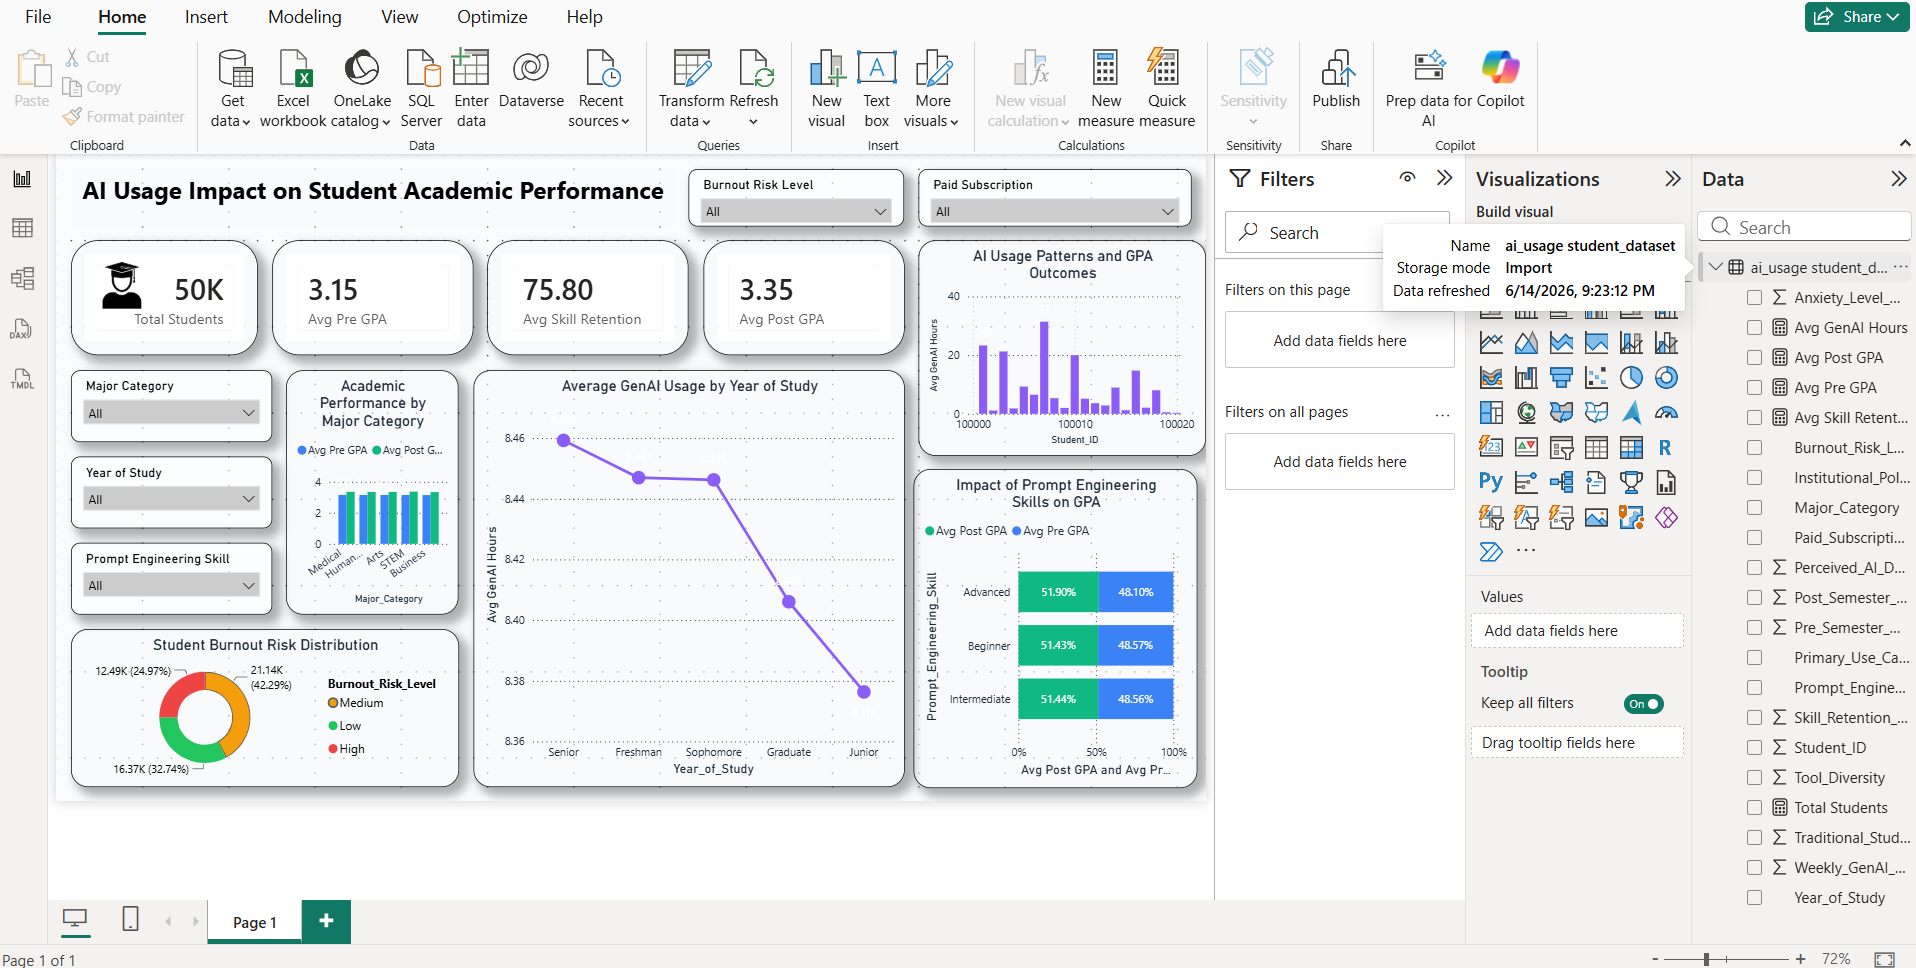

The page's visual inventory and layout, read from the dashboard file:
{"tool":"powerbi","page":{"name":"Page 1","canvas":[1280,720],"ordinal":0},"visuals":[{"type":"kpi","title":"Avg Post GPA by Year of Study","fields":{"Indicator":["ai_usage student_dataset.Avg Post GPA"],"TrendLine":["ai_usage student_dataset.Year_of_Study"]},"box":[725.9,96.1,211.3,115.3],"z":0},{"type":"kpi","title":"Avg Pre GPA by Year of Study","fields":{"Indicator":["ai_usage student_dataset.Avg Pre GPA"],"TrendLine":["ai_usage student_dataset.Year_of_Study"]},"box":[253.1,96.6,225,114.9],"z":1000},{"type":"kpi","title":"Avg Skill Retention by Year of Study","fields":{"Indicator":["ai_usage student_dataset.Avg Skill Retention"],"TrendLine":["ai_usage student_dataset.Year_of_Study"]},"box":[490.4,96.6,222.6,114.9],"z":2000},{"type":"kpi","title":"Total Students by Year of Study","fields":{"Indicator":["ai_usage student_dataset.Total Students"],"TrendLine":["ai_usage student_dataset.Year_of_Study"]},"box":[20.6,96.1,223.7,115.3],"z":3000},{"type":"clusteredColumnChart","title":"Academic Performance by Major Category","fields":{"Category":["ai_usage student_dataset.Major_Category"],"Y":["ai_usage student_dataset.Avg Pre GPA","ai_usage student_dataset.Avg Post GPA"]},"box":[252.5,222.3,204.5,306],"z":4000},{"type":"clusteredColumnChart","title":"AI Usage Patterns and GPA Outcomes","fields":{"Category":["ai_usage student_dataset.Student_ID"],"Y":["ai_usage student_dataset.Avg GenAI Hours"]},"box":[466.6,226.4,470.7,478.9],"z":5000},{"type":"donutChart","title":"Student Burnout Risk Distribution","fields":{"Y":["CountNonNull(ai_usage student_dataset.Student_ID)"],"Category":["ai_usage student_dataset.Burnout_Risk_Level"]},"box":[12.5,543.8,446.2,162.5],"z":6000},{"type":"hundredPercentStackedBarChart","title":"Impact of Prompt Engineering Skills on GPA","fields":{"Y":["ai_usage student_dataset.Avg Post GPA","ai_usage student_dataset.Avg Pre GPA"],"Category":["ai_usage student_dataset.Prompt_Engineering_Skill"]},"box":[953.8,351.2,316.2,355],"z":7000},{"type":"slicer","fields":{"Values":["ai_usage student_dataset.Major_Category"]},"box":[20,227.5,213.8,68.8],"z":8000},{"type":"slicer","fields":{"Values":["ai_usage student_dataset.Year_of_Study"]},"box":[20,306.2,215,68.8],"z":9000},{"type":"slicer","fields":{"Values":["ai_usage student_dataset.Prompt_Engineering_Skill"]},"box":[20,383.8,215,71.2],"z":10000},{"type":"lineChart","title":"Average GenAI Usage by Year of Study","fields":{"Category":["ai_usage student_dataset.Year_of_Study"],"Y":["ai_usage student_dataset.Avg GenAI Hours"]},"box":[953.8,13.8,316.2,327.5],"z":11000},{"type":"slicer","fields":{"Values":["ai_usage student_dataset.Burnout_Risk_Level"]},"box":[18.8,463.8,215,70],"z":12000},{"type":"textbox","box":[12.3,13.7,602.4,70],"z":13000},{"type":"slicer","fields":{"Values":["ai_usage student_dataset.Paid_Subscription"]},"box":[628.5,13.7,308.7,70],"z":14000}]}

Visuals, with their boxes on the page's 1280x720 design canvas (x1, y1, x2, y2). These are canvas units, not pixel positions in the 1916x968 screenshot, which may show the page scaled, cropped or inside an application window:
"Avg Post GPA by Year of Study" kpi: rect(726, 96, 937, 211)
"Avg Pre GPA by Year of Study" kpi: rect(253, 97, 478, 212)
"Avg Skill Retention by Year of Study" kpi: rect(490, 97, 713, 212)
"Total Students by Year of Study" kpi: rect(21, 96, 244, 211)
"Academic Performance by Major Category" clusteredColumnChart: rect(252, 222, 457, 528)
"AI Usage Patterns and GPA Outcomes" clusteredColumnChart: rect(467, 226, 937, 705)
"Student Burnout Risk Distribution" donutChart: rect(12, 544, 459, 706)
"Impact of Prompt Engineering Skills on GPA" hundredPercentStackedBarChart: rect(954, 351, 1270, 706)
slicer - ai_usage student_dataset.Major_Category: rect(20, 228, 234, 296)
slicer - ai_usage student_dataset.Year_of_Study: rect(20, 306, 235, 375)
slicer - ai_usage student_dataset.Prompt_Engineering_Skill: rect(20, 384, 235, 455)
"Average GenAI Usage by Year of Study" lineChart: rect(954, 14, 1270, 341)
slicer - ai_usage student_dataset.Burnout_Risk_Level: rect(19, 464, 234, 534)
textbox: rect(12, 14, 615, 84)
slicer - ai_usage student_dataset.Paid_Subscription: rect(628, 14, 937, 84)
